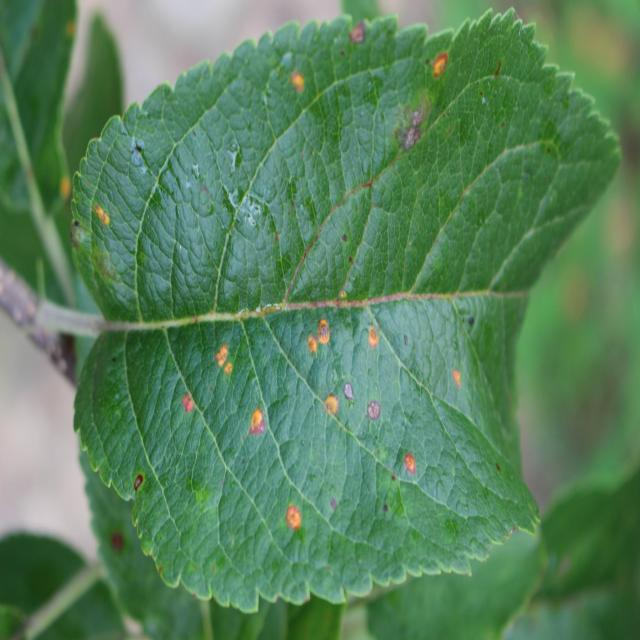Rust: (420, 45, 464, 94), (289, 319, 342, 359), (269, 496, 319, 538), (158, 386, 211, 415), (207, 338, 240, 381), (243, 404, 275, 446), (396, 446, 426, 488), (363, 309, 384, 366), (88, 197, 118, 235), (316, 385, 343, 425), (284, 62, 309, 104), (441, 358, 468, 396), (345, 19, 371, 58)
